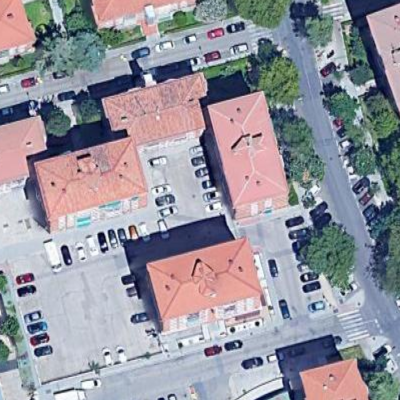tree: (298, 217, 358, 288), (253, 48, 308, 108), (36, 31, 108, 76), (371, 201, 400, 298), (270, 108, 320, 150), (283, 145, 327, 187), (233, 1, 293, 28), (299, 12, 337, 49), (363, 363, 400, 400), (42, 106, 77, 139), (351, 143, 382, 178), (326, 88, 359, 120), (77, 95, 100, 121)
